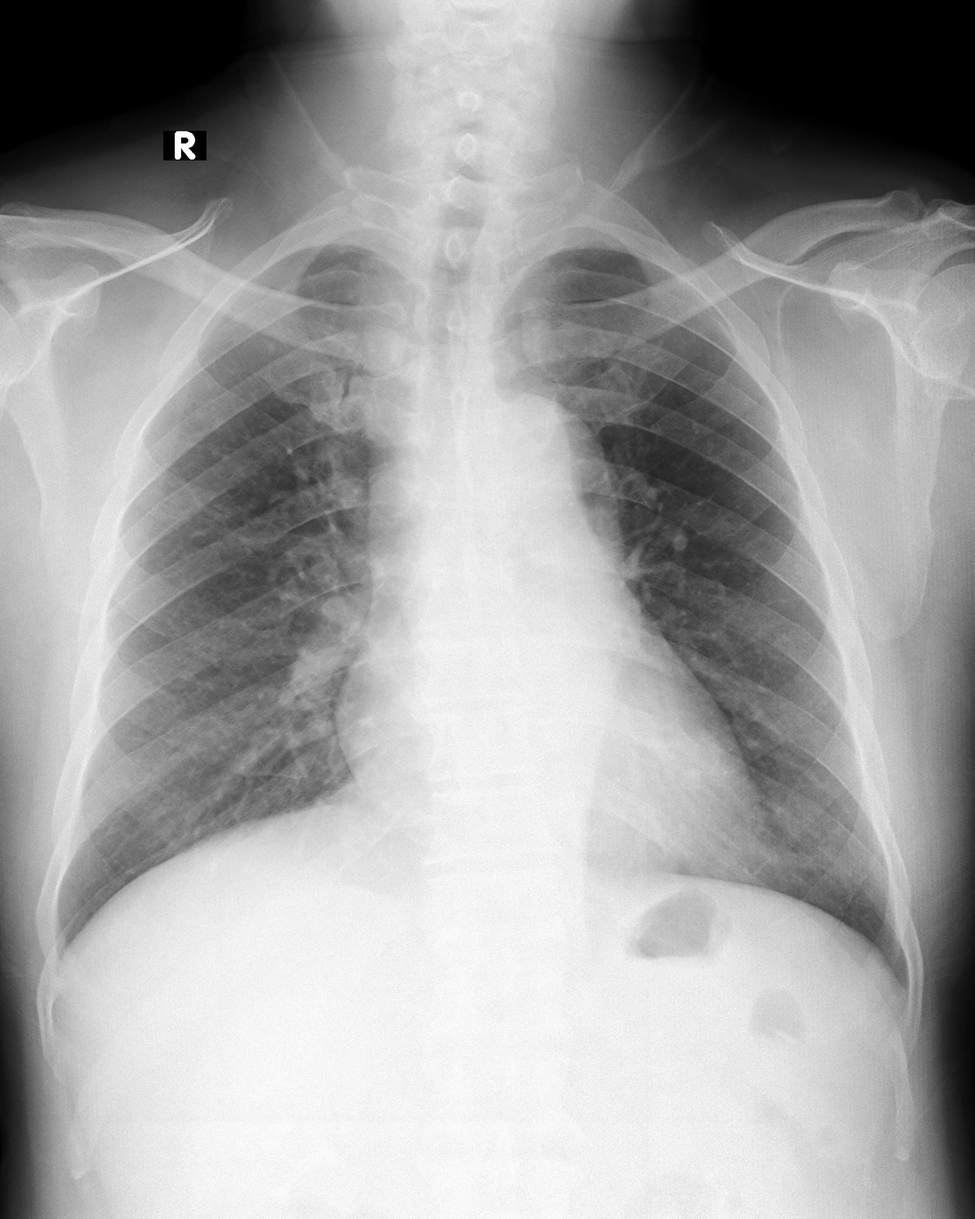Aortic enlargement: (467, 394, 623, 552)
Cardiomegaly: (331, 676, 779, 896)
